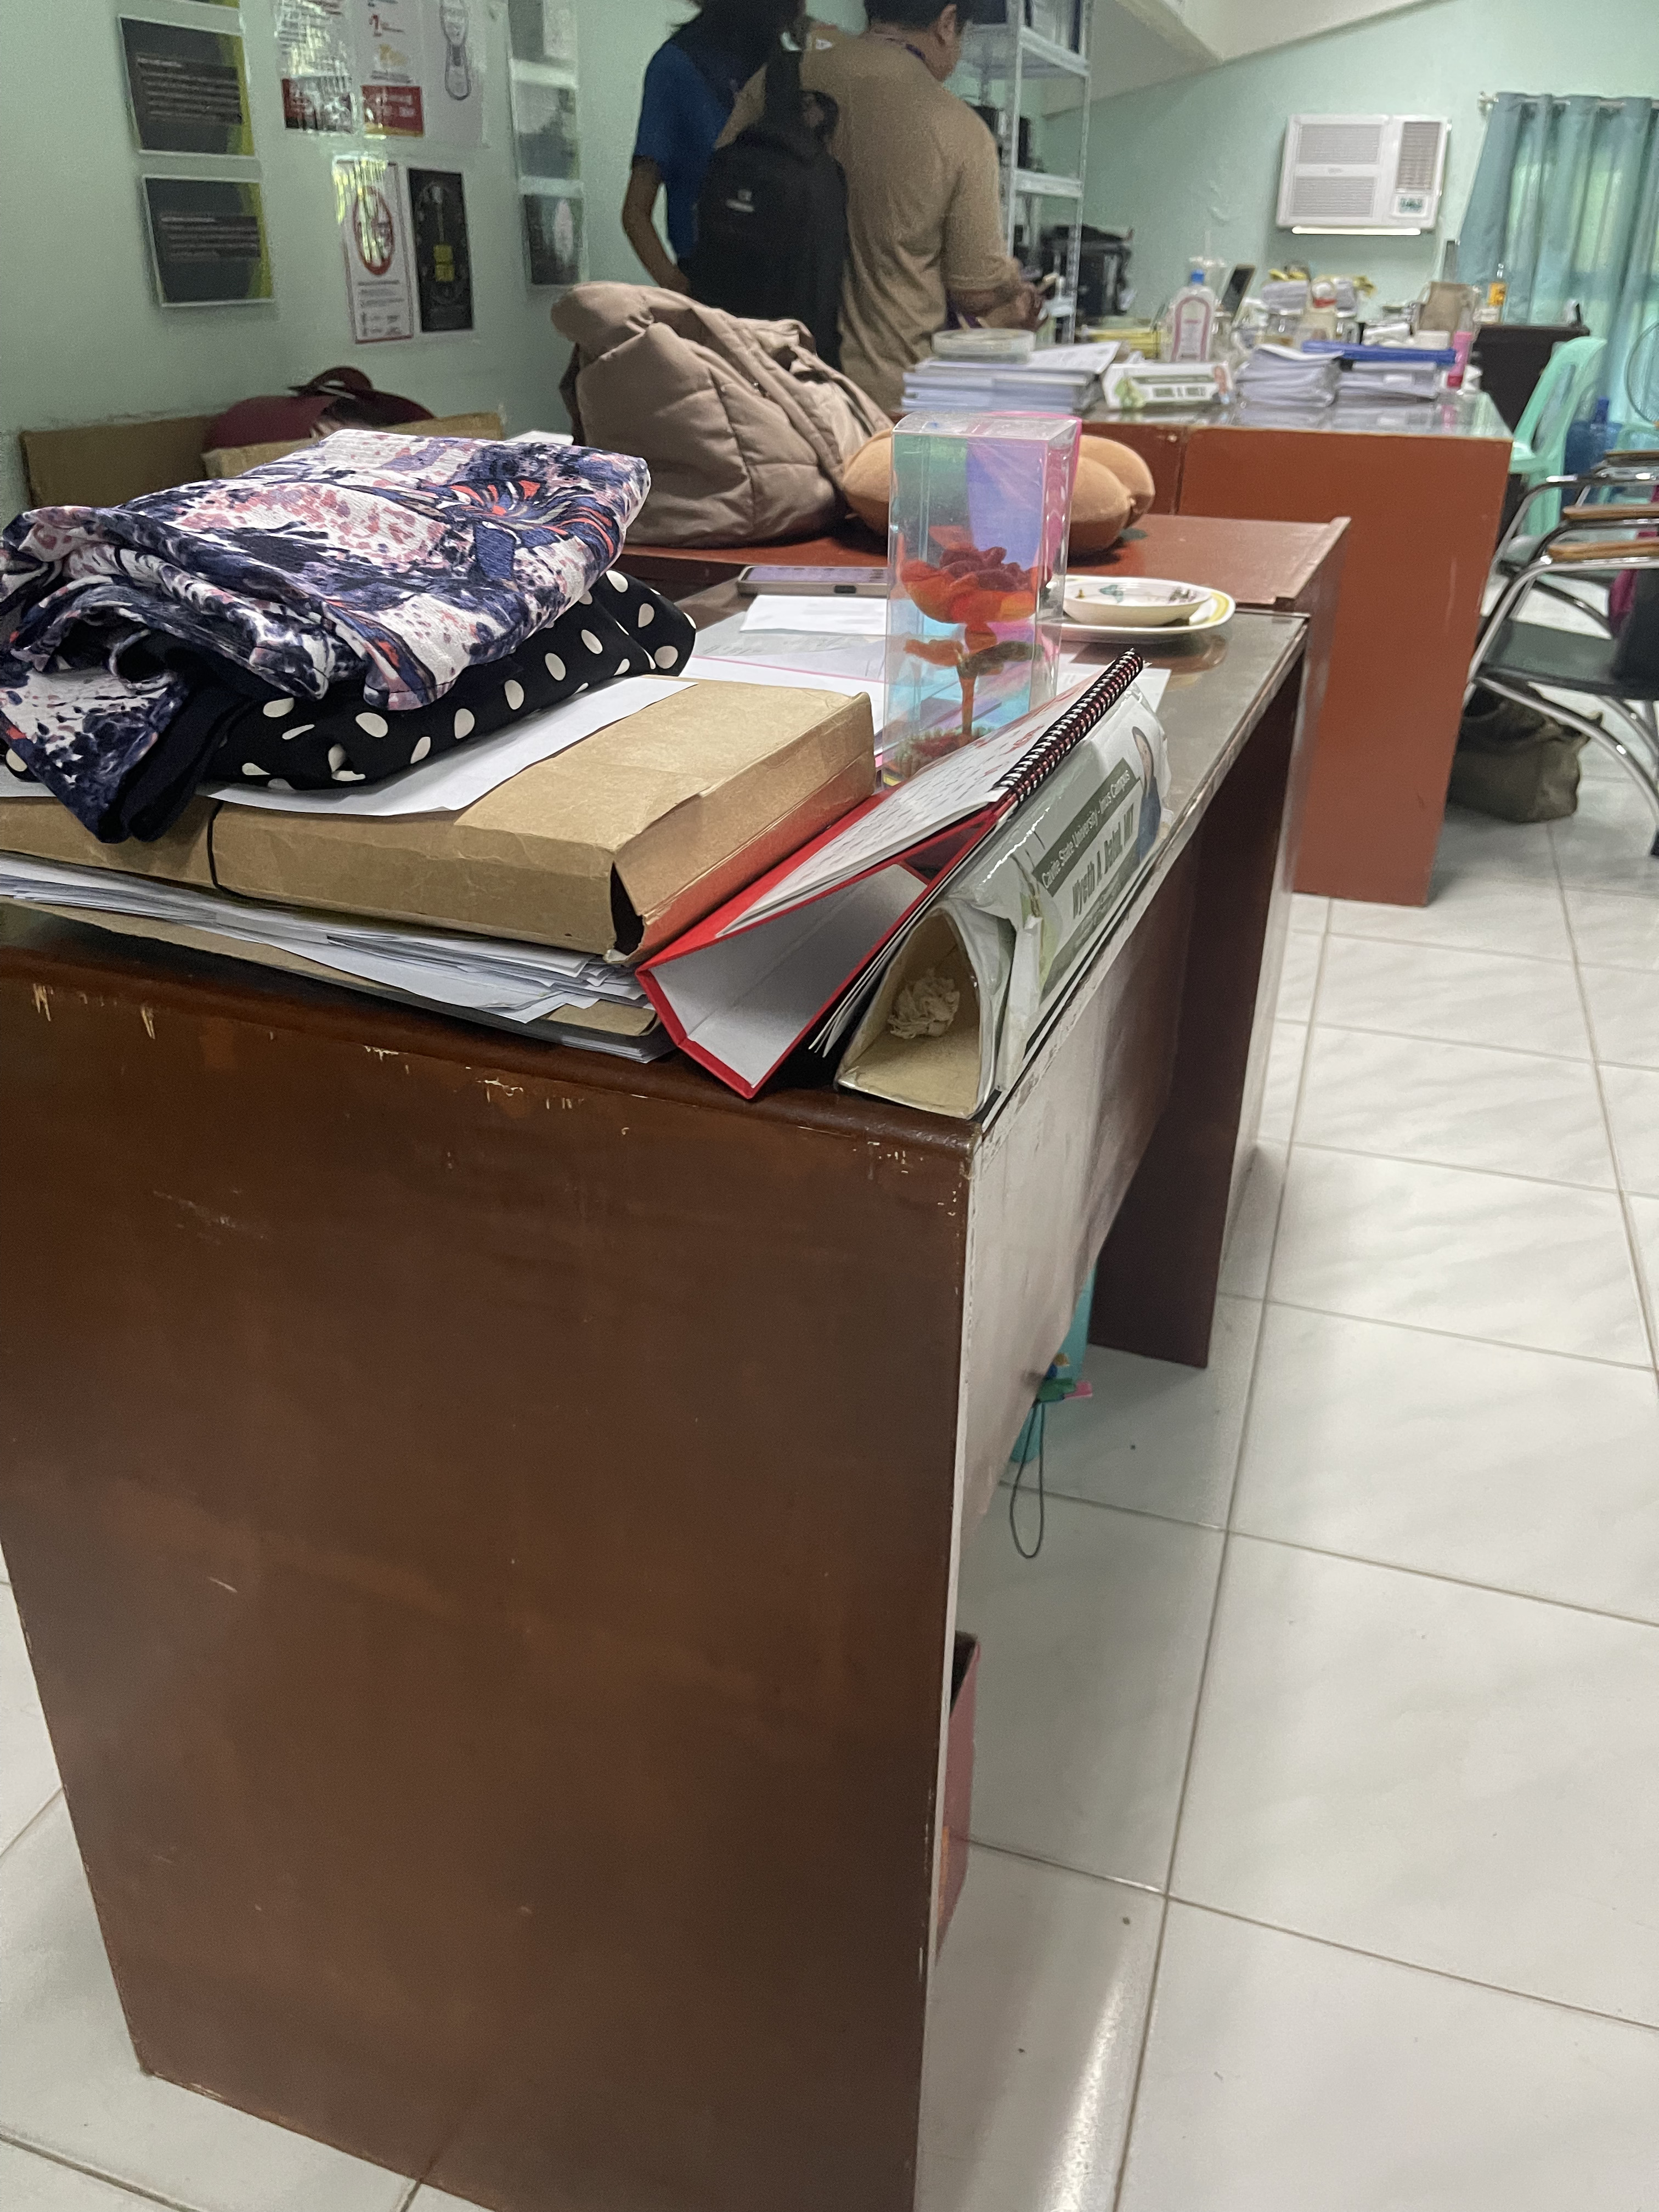table2: (0, 509, 1366, 2212)
